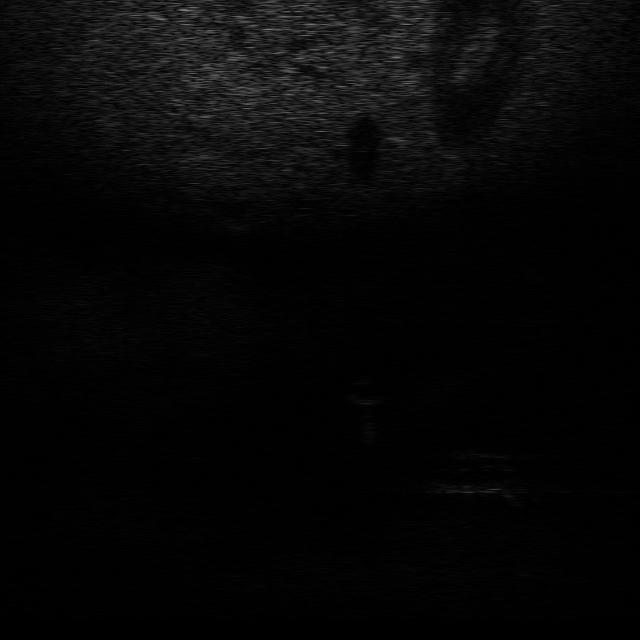ball: (338, 374, 392, 409)
tyre: (427, 448, 525, 502)
